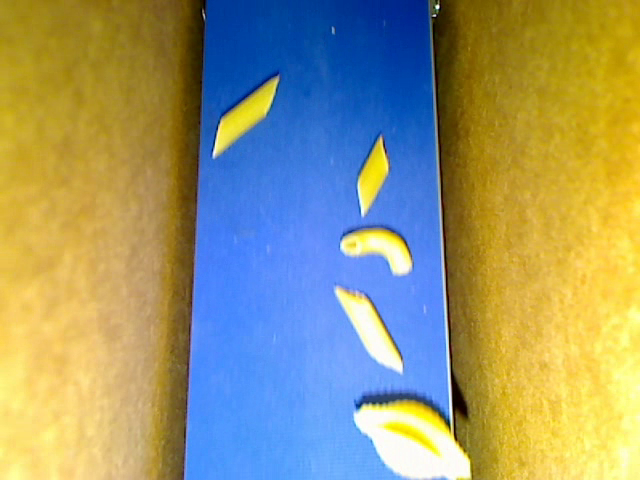elbow: (338, 225, 412, 275)
penne: (334, 285, 403, 373), (212, 75, 279, 158), (356, 133, 390, 217)
shell: (354, 398, 470, 478)
